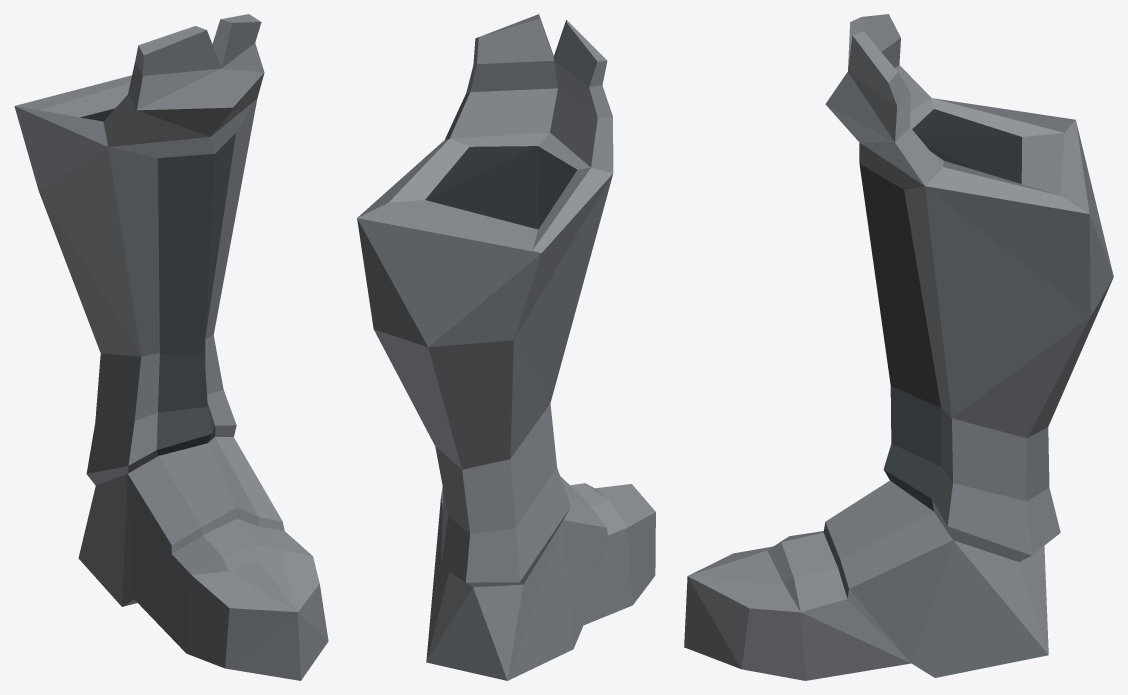
The model's file is Chr_LegLeft_Female_14_Static.fbx.
3 views of the same model, side by side, from view 1: azimuth 30°, elevation 25°; view 2: azimuth 150°, elevation 25°; view 3: azimuth 270°, elevation 25° (orthographic). The views are drawn at different scales.
Visible parts, largest first — view 1: Chr_LegLeft_Female_14_Static; view 2: Chr_LegLeft_Female_14_Static; view 3: Chr_LegLeft_Female_14_Static.
Boxes of the visible parts, x1=… form: Chr_LegLeft_Female_14_Static: x1=14, y1=14, x2=328, y2=680; Chr_LegLeft_Female_14_Static: x1=357, y1=14, x2=655, y2=680; Chr_LegLeft_Female_14_Static: x1=684, y1=14, x2=1113, y2=680.
Size of the model in its own units: 0.1561 by 0.4979 by 0.3124.
